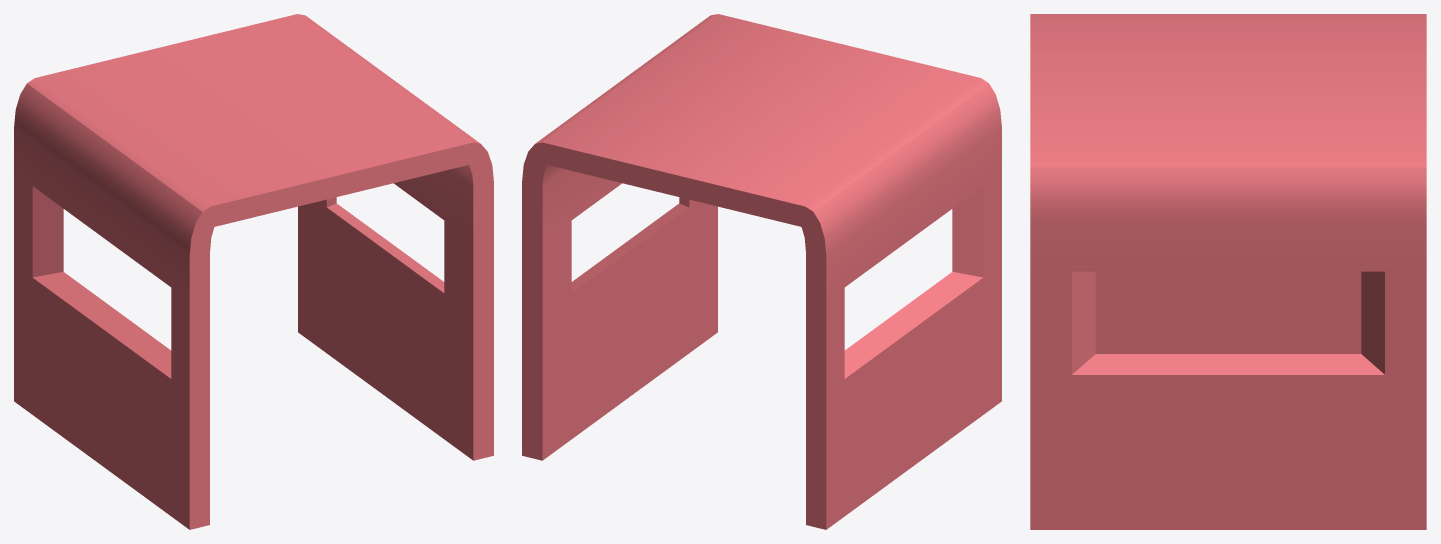
The model's file is Props_Conveyor_Pink_Connector_02.fbx.
The picture shows the model from 3 angles, left to right: view 1: azimuth 30°, elevation 25°; view 2: azimuth 150°, elevation 25°; view 3: azimuth 270°, elevation 25°; orthographic projection. The views are drawn at different scales.
Visible parts, largest first — view 1: Props_Conveyor_Pink_Connector_02; view 2: Props_Conveyor_Pink_Connector_02; view 3: Props_Conveyor_Pink_Connector_02.
Boxes of the visible parts, bbox=[...] form: Props_Conveyor_Pink_Connector_02: bbox=[14, 14, 493, 529]; Props_Conveyor_Pink_Connector_02: bbox=[522, 14, 1001, 529]; Props_Conveyor_Pink_Connector_02: bbox=[1030, 14, 1426, 529].
Size of the model in its own units: 100 by 100 by 100.
